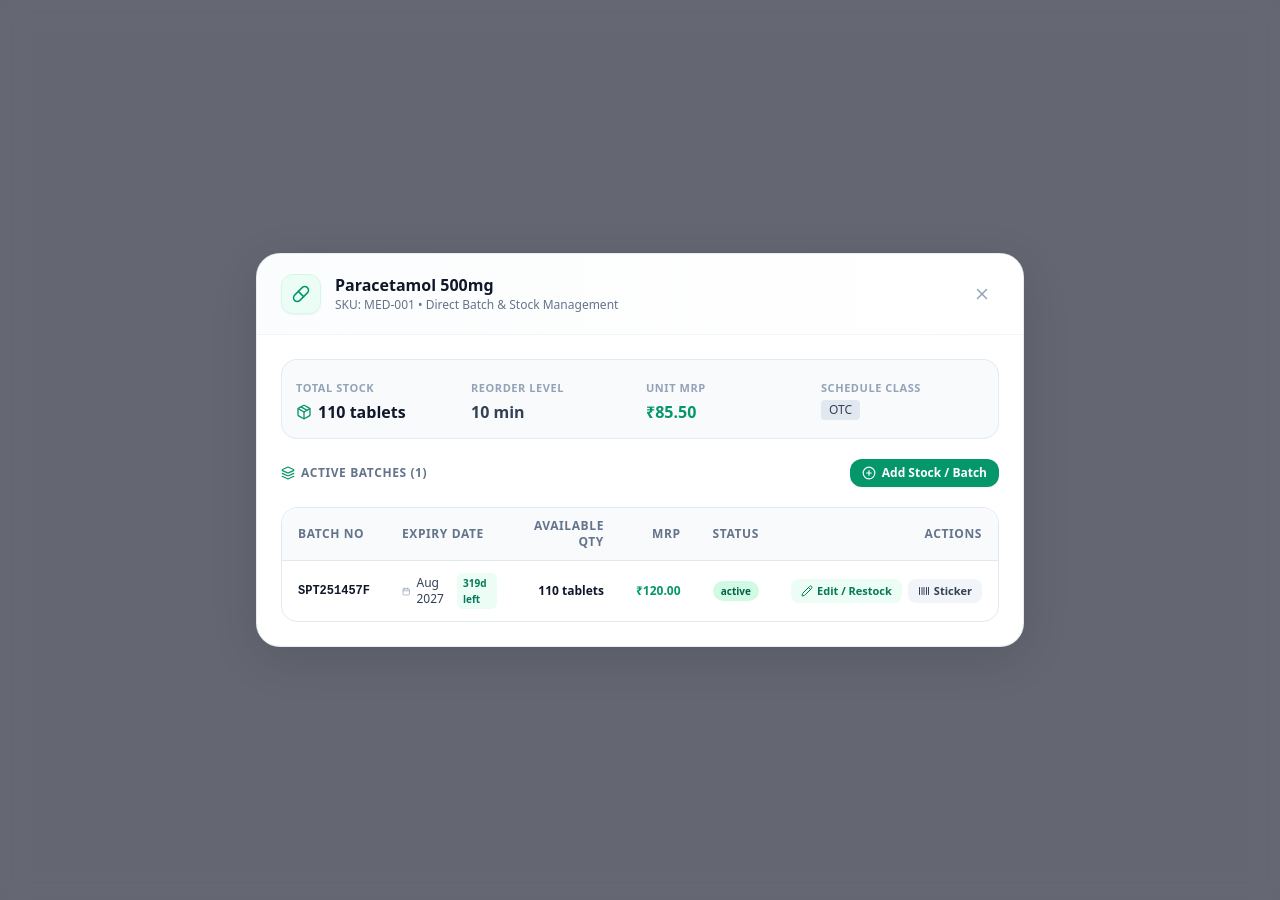
Test case: medicine stock modal — direct receive › opens Edit / Restock with the existing batch details
Click the button "Edit / Restock": (846, 591) [791,579,902,603]
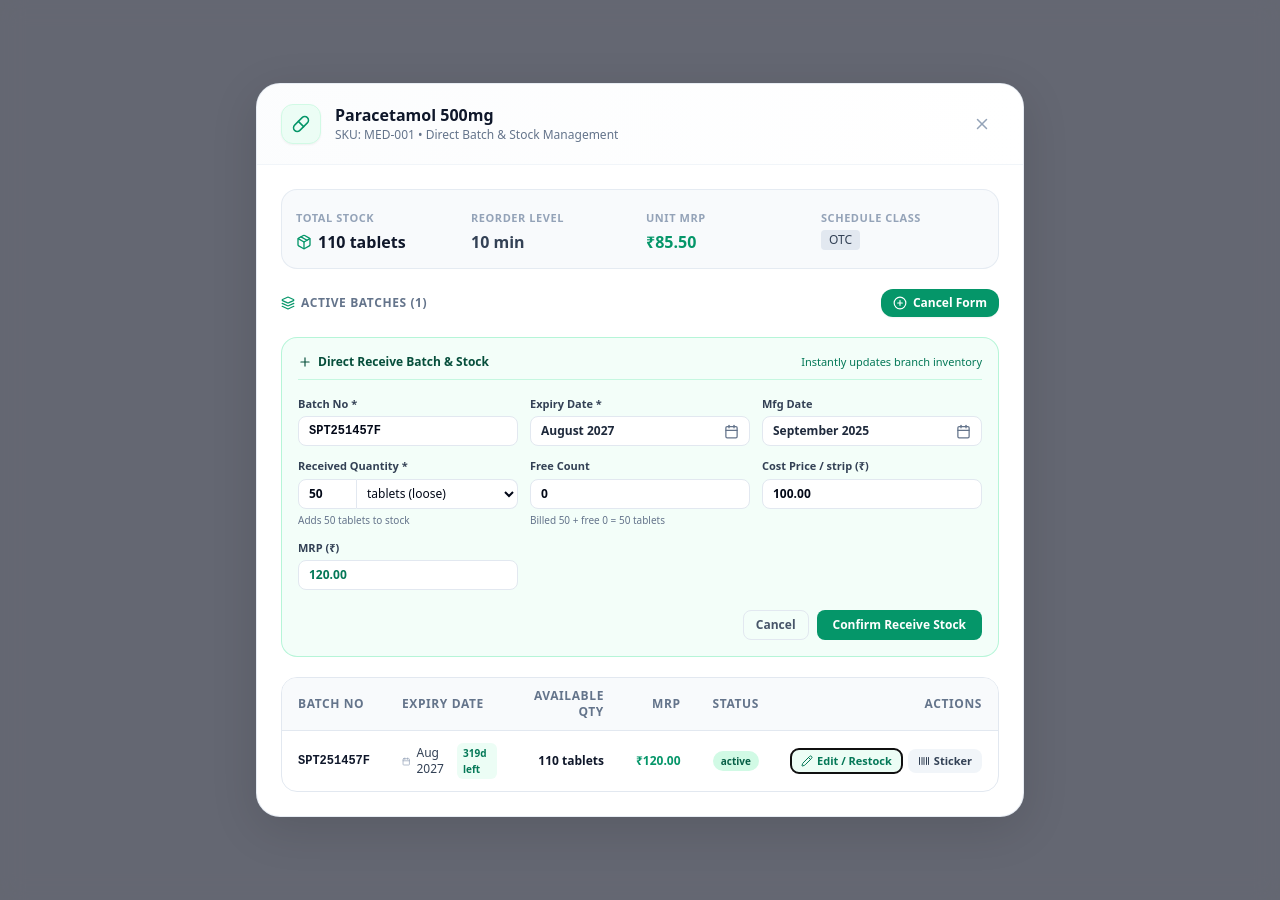
Now the field with placeholder "e.g. BATCH-992" holds "SPT251457F", box [298,416,518,446]
Now the button with aria-label "Expiry Date" reads "August 2027", box [530,416,750,446]
Now the button with aria-label "Mfg Date" reads "September 2025", box [762,416,982,446]
